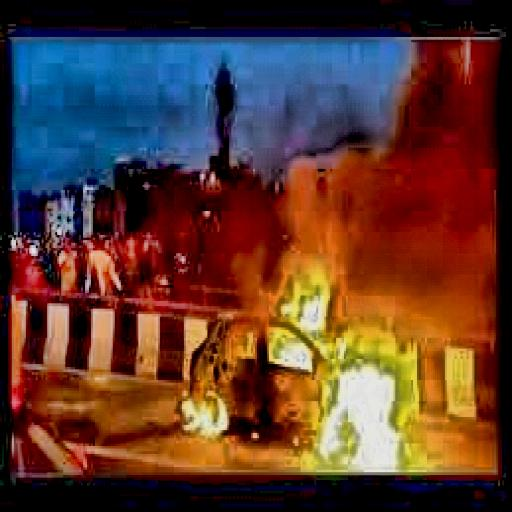fire: (180, 267, 421, 467)
